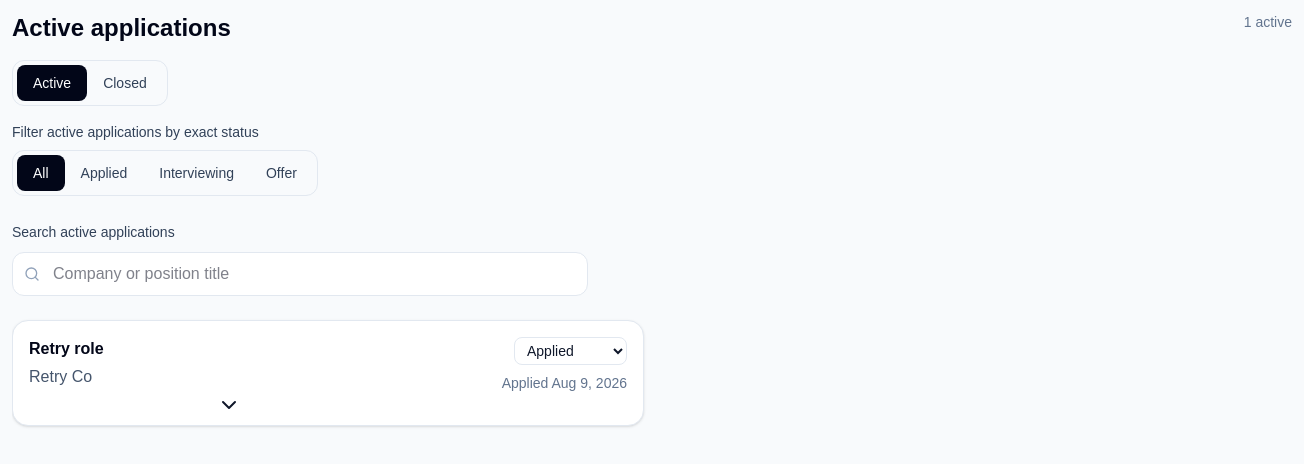
Test: ActiveApplicationList › retains persisted status after failure and permits another selection
Select "Rejected" in the dropdown named "Status for Retry role" at (570, 351), box [514,337,627,365]
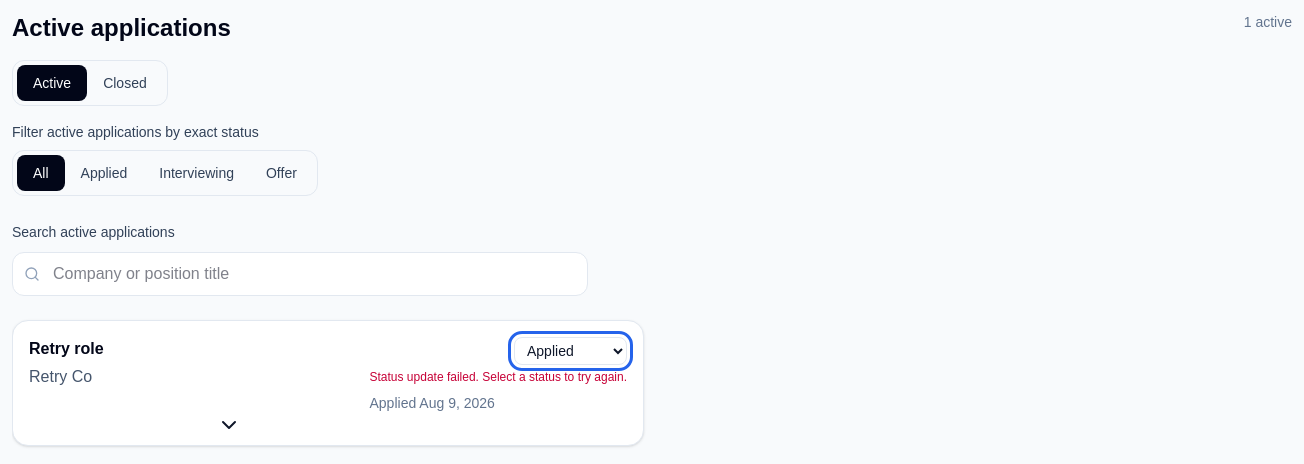
Expected: the message shows "Status update failed", [370,370,627,384]
Select "Interviewing" in the dropdown named "Status for Retry role" at (570, 351), box [514,337,627,365]
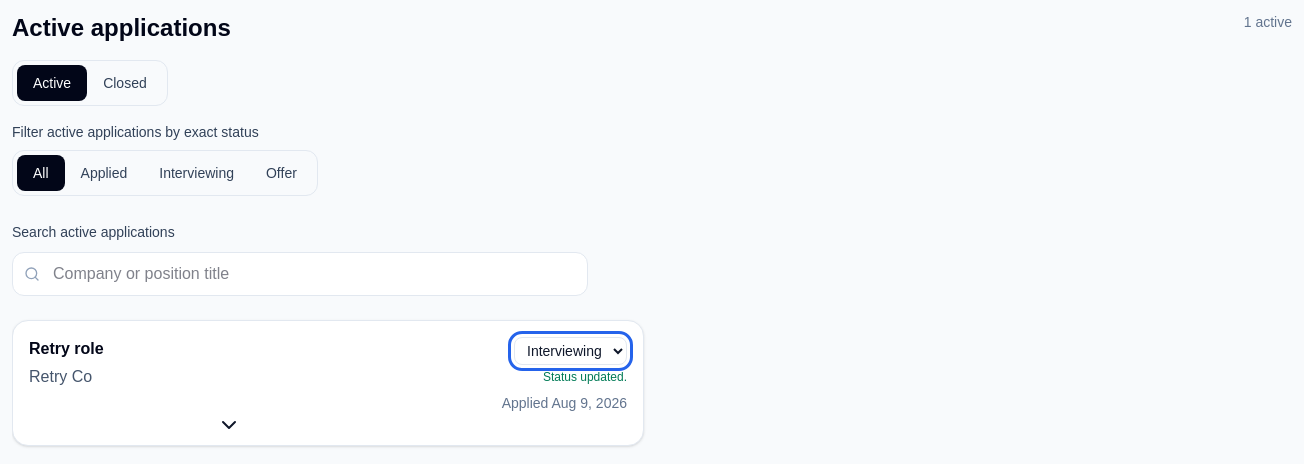
Expected: the text "Status updated." is shown, [543,370,627,384]
